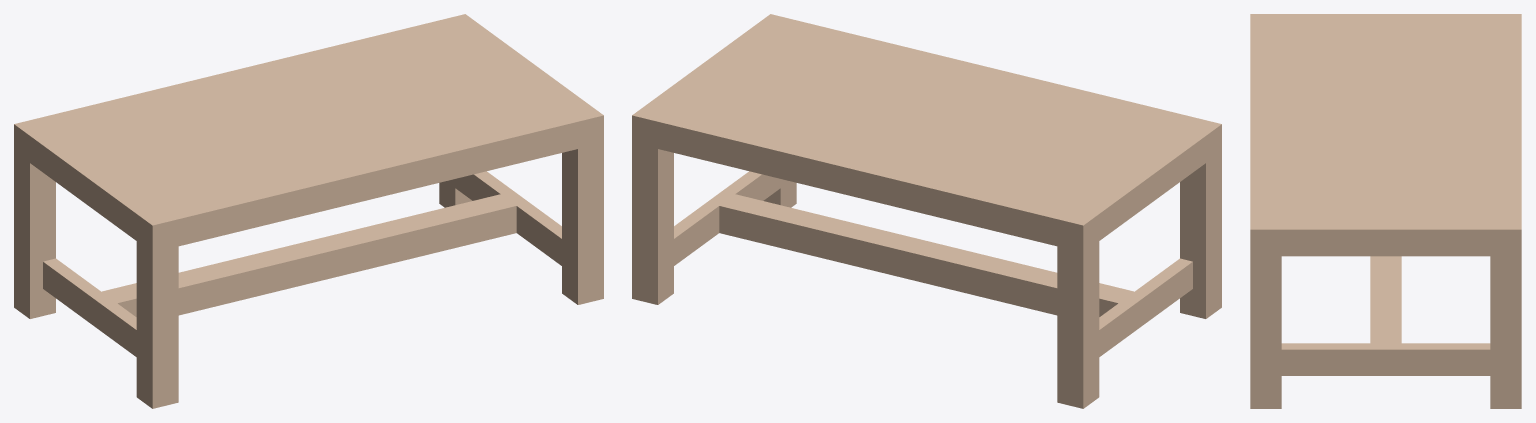
File: table.glb
3 views of the same model, side by side, from view 1: azimuth 30°, elevation 25°; view 2: azimuth 150°, elevation 25°; view 3: azimuth 270°, elevation 25° (orthographic). The views are drawn at different scales.
Parts seen in each view (by area): view 1: table(Clone); view 2: table(Clone); view 3: table(Clone).
Part boxes in pixels (<box>): table(Clone): <box>14,14,603,408</box>; table(Clone): <box>632,14,1221,408</box>; table(Clone): <box>1250,14,1521,408</box>.
Bounding box in the file's own units: 1.77 × 0.6861 × 0.9395.
